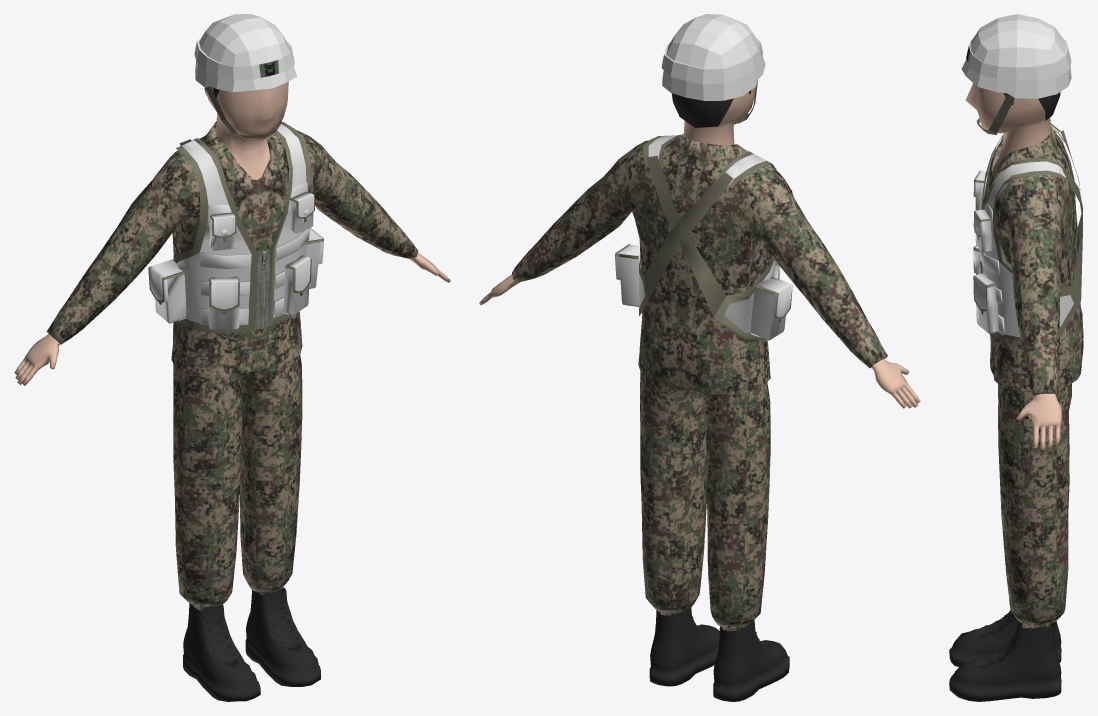
Rendered from Soldier2fbx.fbx.
3 views of the same model, side by side, from view 1: azimuth 30°, elevation 25°; view 2: azimuth 150°, elevation 25°; view 3: azimuth 270°, elevation 25° (orthographic).
Parts seen in each view (by area): view 1: Clothes, JJo KKI, Shoes, BBang Tan, Skin, JJo KKI.001, JJo KKI.002, ShoeLace; view 2: Clothes, Shoes, BBang Tan, JJo KKI.001, JJo KKI, Skin, Hair; view 3: Clothes, Shoes, BBang Tan, JJo KKI, Skin, JJo KKI.001, Chin Strap, ShoeLace, Hair.
Part boxes in pixels (x1,y1,x2,y2): Clothes: (46,121,418,611); JJo KKI: (149,124,323,329); Shoes: (183,587,320,701); BBang Tan: (194,14,297,92); Skin: (14,82,450,385); JJo KKI.001: (148,122,323,333); JJo KKI.002: (255,250,270,329); ShoeLace: (203,594,301,662); Clothes: (512,134,887,631); Shoes: (649,608,789,701); BBang Tan: (661,14,765,100); JJo KKI.001: (615,135,792,342); JJo KKI: (615,135,792,340); Skin: (479,87,920,408); Hair: (671,90,751,127); Clothes: (982,126,1083,628); Shoes: (949,611,1061,701); BBang Tan: (961,14,1071,98); JJo KKI: (973,125,1073,337); Skin: (965,83,1062,449); JJo KKI.001: (973,123,1082,344); Chin Strap: (976,94,1014,135); ShoeLace: (985,609,1018,665); Hair: (1003,92,1060,120).
Size of the model in its own units: 8.18 by 11.85 by 2.2.
